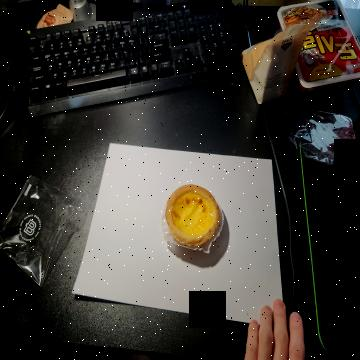EggTart: (165, 183, 221, 248)
